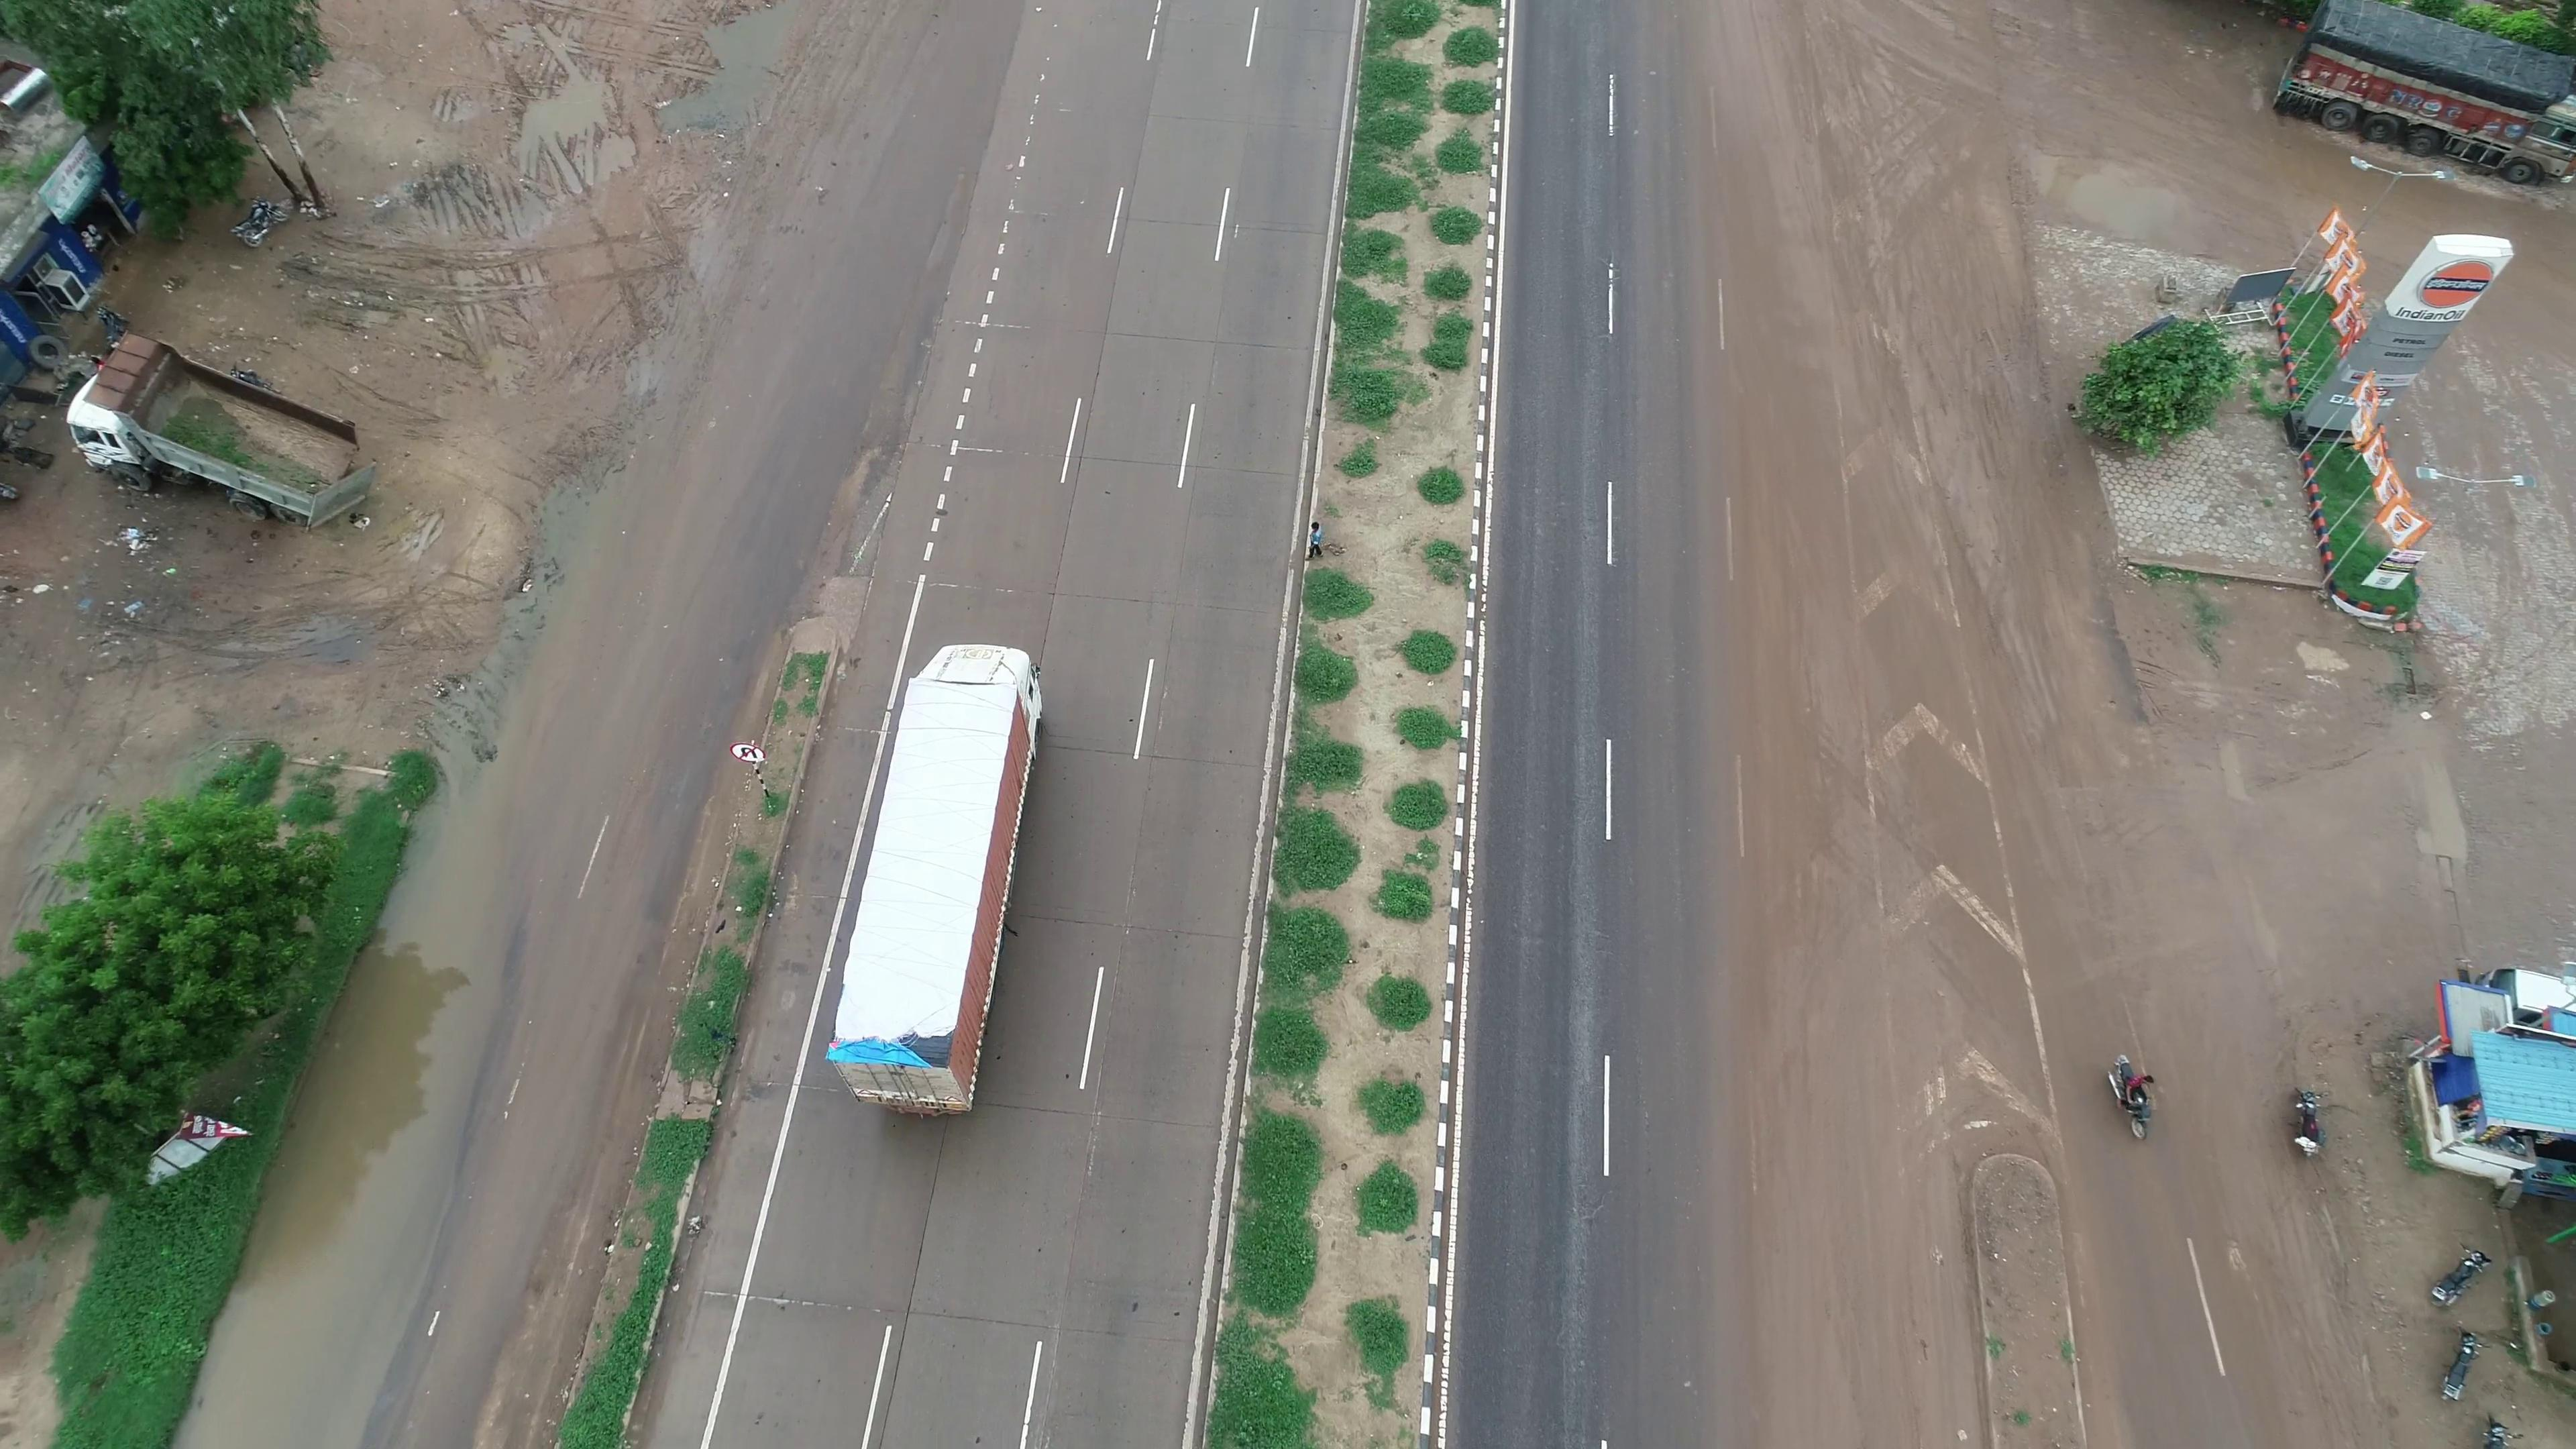Muddy_road: (1707, 605, 1994, 1447), (1695, 46, 1967, 603)
